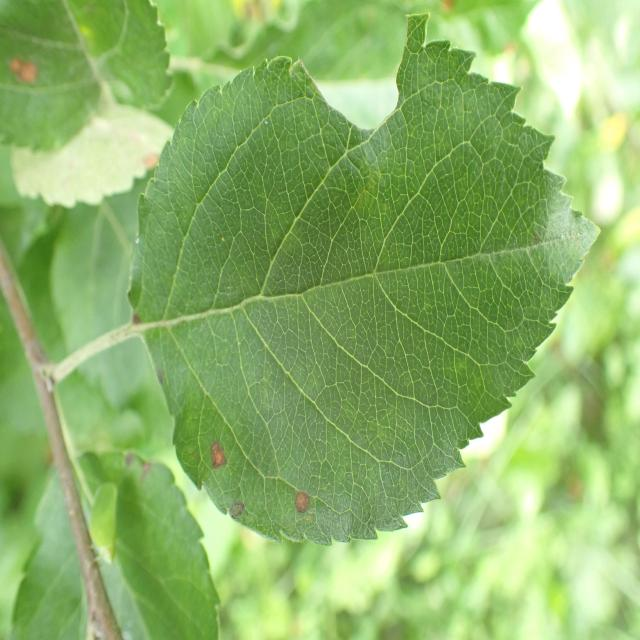Black Rot: (206, 430, 240, 494), (214, 500, 261, 537), (289, 478, 319, 522)
